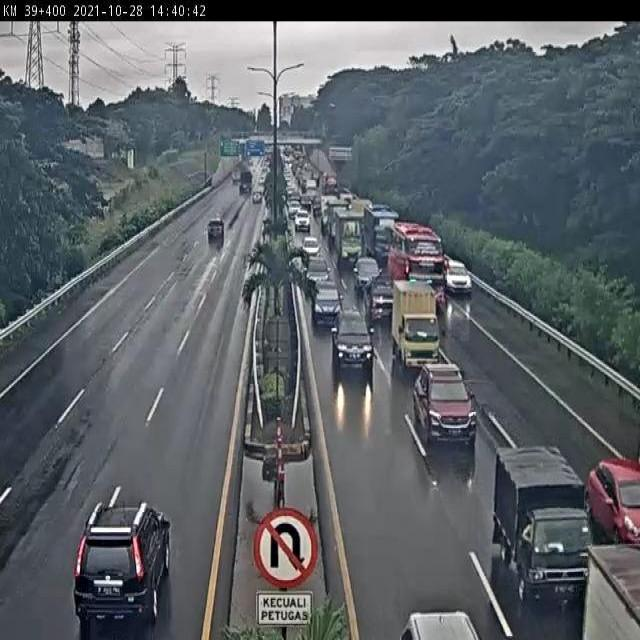bus-l-: (385, 220, 439, 297), (366, 203, 400, 257)
car: (74, 503, 169, 616), (411, 365, 478, 447), (582, 458, 640, 546), (331, 304, 374, 373), (311, 279, 342, 321), (367, 279, 396, 317), (442, 259, 471, 296), (351, 252, 376, 285), (304, 253, 330, 284), (202, 218, 226, 246)
truck-s-: (493, 445, 594, 600), (389, 281, 442, 371)
